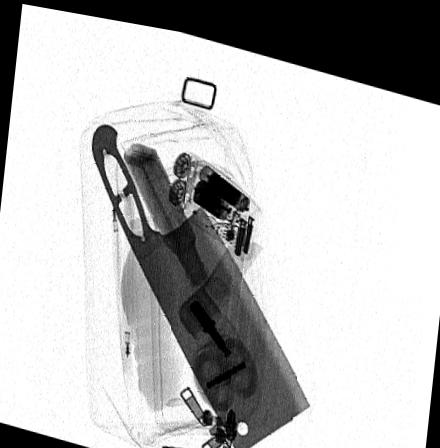Knife: (91, 118, 312, 447)
